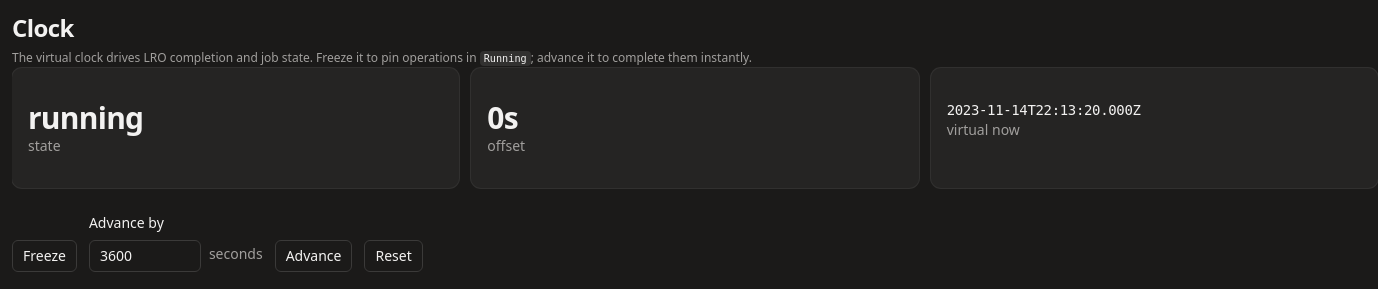
Clock › shows the clock state and freezes it
The image size is (1378, 289).
Expected: the text "running" is shown, [28,97,143,138]
Click the button "Freeze" at [44, 256], box [12,240,77,272]
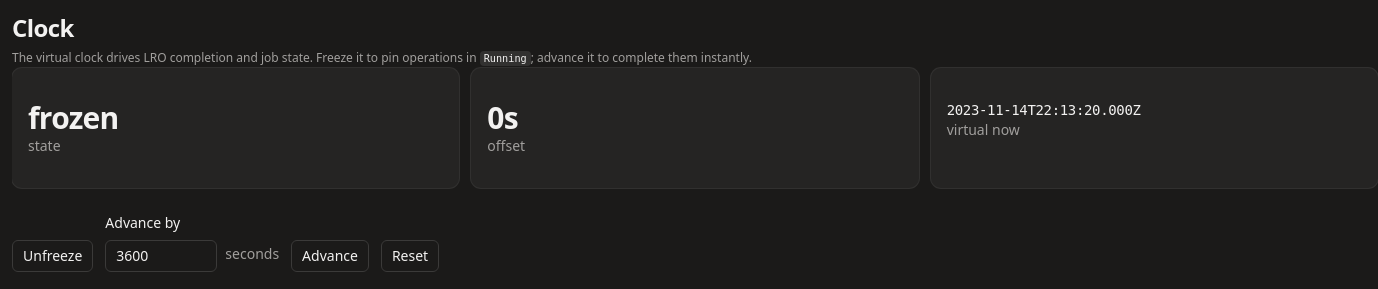
Result: the text "frozen" is shown at [28,97,118,138]
